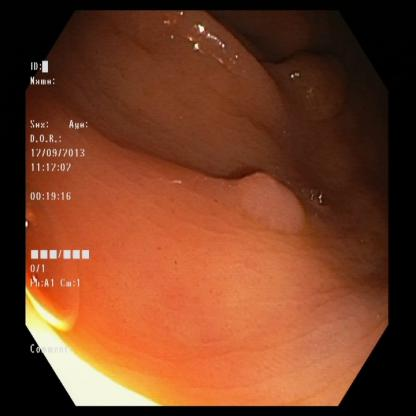Labels: (26, 49, 98, 365)
Polyps: (235, 150, 300, 238)
